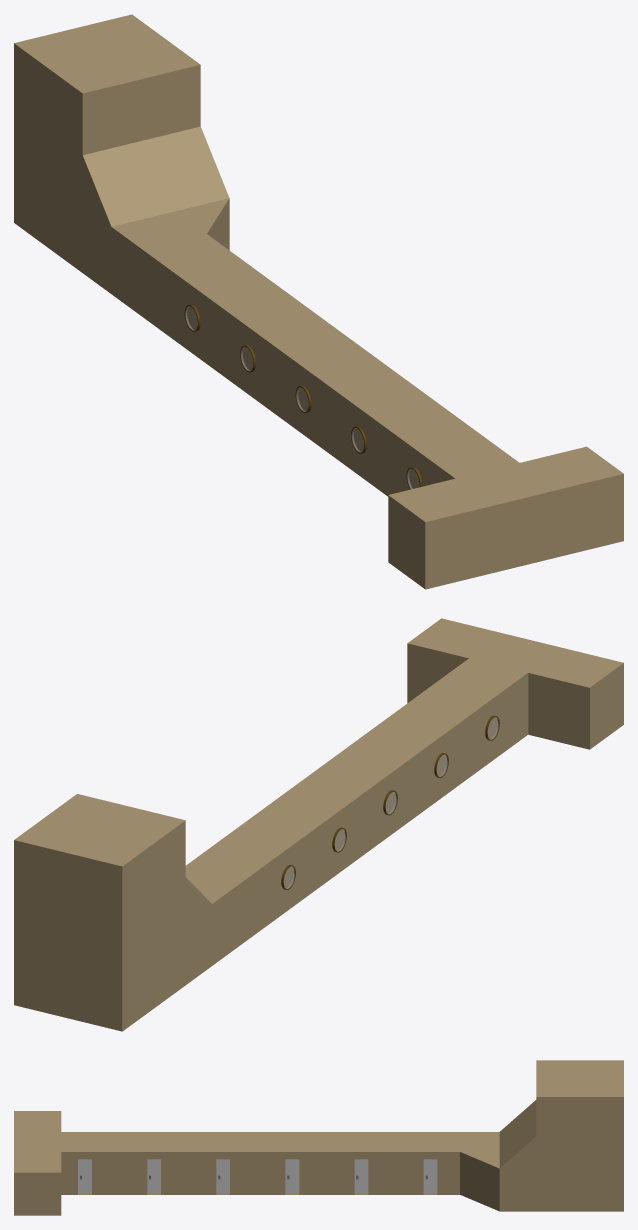
File: ship_corridor.fbx
The picture shows the model from 3 angles, top to bottom: view 1: azimuth 30°, elevation 25°; view 2: azimuth 150°, elevation 25°; view 3: azimuth 270°, elevation 25°; orthographic projection. The views are drawn at different scales.
Parts seen in each view (by area): view 1: Corridor, Windows; view 2: Corridor, Windows; view 3: Corridor, Door.
Part boxes in pixels (box(x1,y1,x2,y2)): Corridor: box(14, 14, 623, 589); Windows: box(184, 304, 422, 489); Corridor: box(14, 618, 623, 1031); Windows: box(281, 715, 499, 889); Corridor: box(14, 1060, 623, 1215); Door: box(78, 1159, 437, 1193).
Bounding box in the file's own units: 740 × 640 × 3090.
